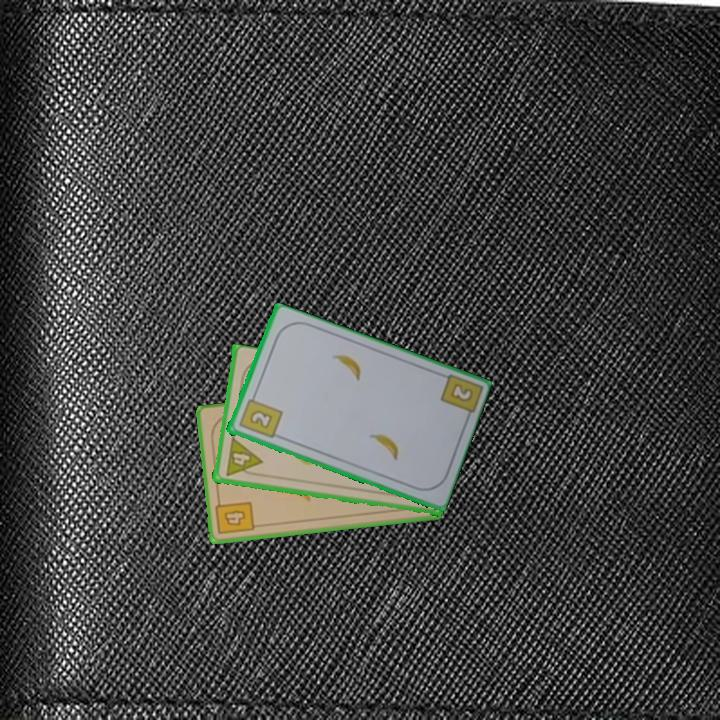2b: (235, 390, 285, 441), (449, 382, 474, 403)
4b: (212, 495, 257, 537)
4p: (222, 435, 264, 479)
